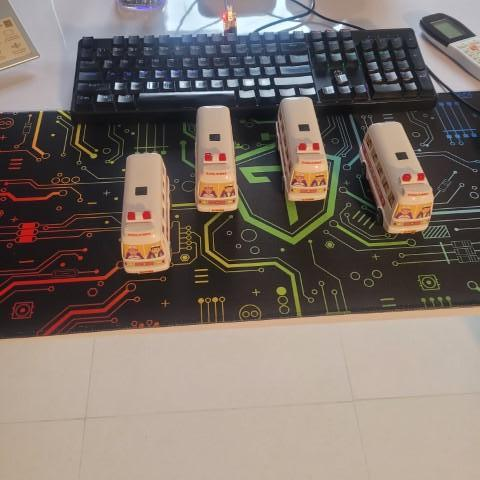ambulance: (355, 116, 437, 240), (121, 150, 176, 283), (272, 94, 335, 209), (191, 102, 244, 222)
